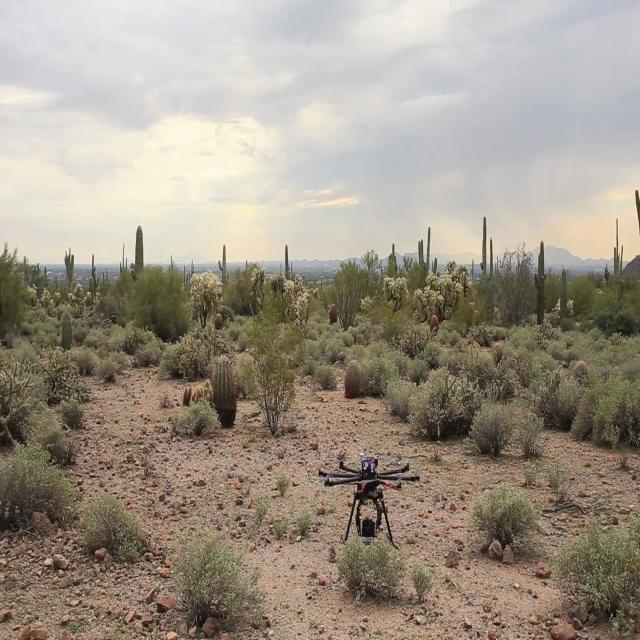drone: (311, 440, 423, 553)
